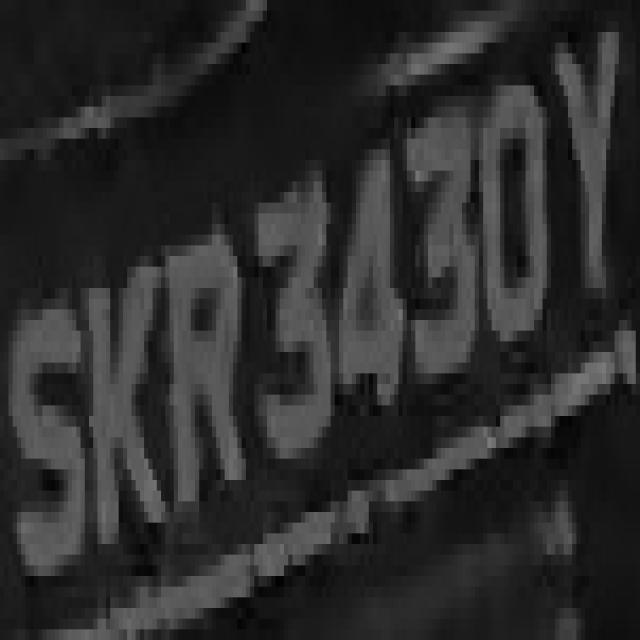0: (466, 32, 547, 384)
3: (242, 171, 334, 480), (398, 64, 471, 437)
4: (326, 96, 403, 448)
K: (84, 202, 152, 554)
R: (153, 203, 250, 501)
S: (0, 267, 85, 597)
Y: (538, 11, 623, 320)
